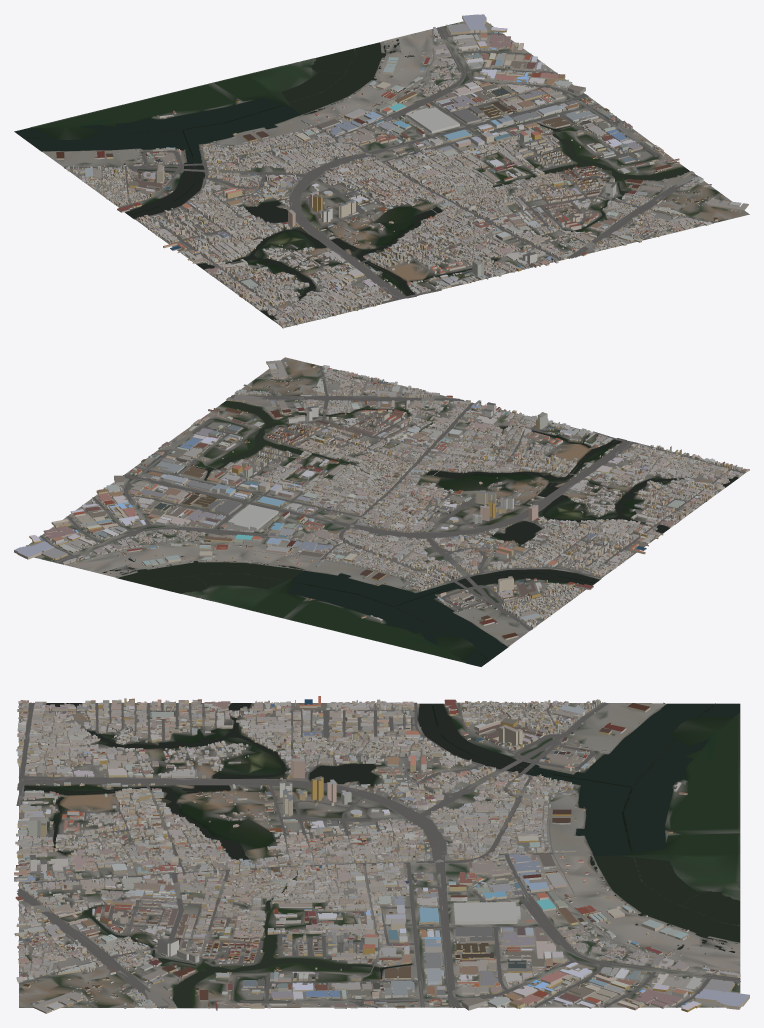
The picture shows the model from 3 angles, top to bottom: view 1: azimuth 30°, elevation 25°; view 2: azimuth 150°, elevation 25°; view 3: azimuth 270°, elevation 25°; orthographic projection. The views are drawn at different scales.
Visible parts, largest first — view 1: buildings, ground, water, roads; view 2: buildings, ground, water, roads; view 3: buildings, ground, water, roads.
Boxes of the visible parts, x1,y1,x2,y2 form: buildings: [42, 14, 748, 328]; ground: [14, 21, 749, 327]; water: [14, 39, 689, 320]; roads: [64, 26, 726, 325]; buildings: [14, 360, 749, 646]; ground: [27, 357, 743, 666]; water: [102, 400, 738, 666]; roads: [40, 366, 744, 630]; buildings: [14, 696, 749, 1013]; ground: [19, 702, 740, 1008]; water: [24, 703, 739, 1007]; roads: [16, 702, 740, 1008].
Size of the model in its own units: 2900 by 91.16 by 2859.
